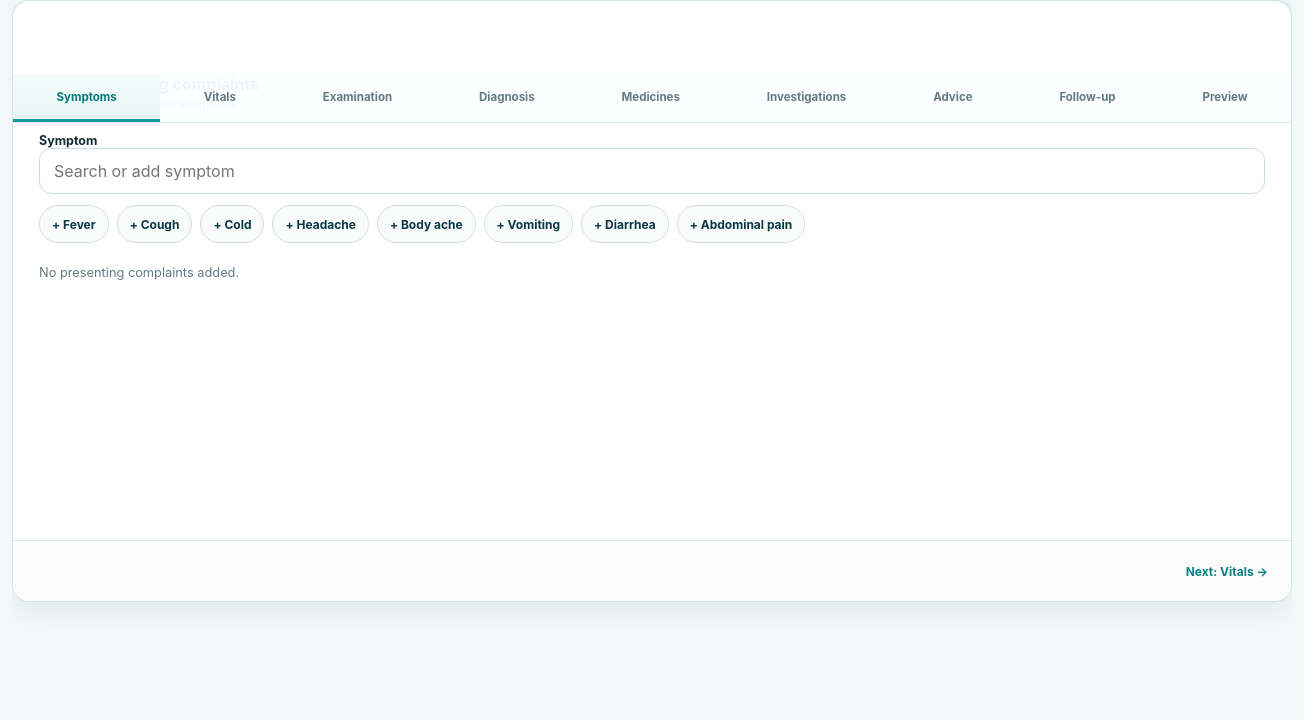
Scenario: tabbed consultation workspace › keeps one draft across tabs and marks completed tabs
The image size is (1304, 720).
Click the button "+ Fever" at [74, 224], box [39,205,109,243]
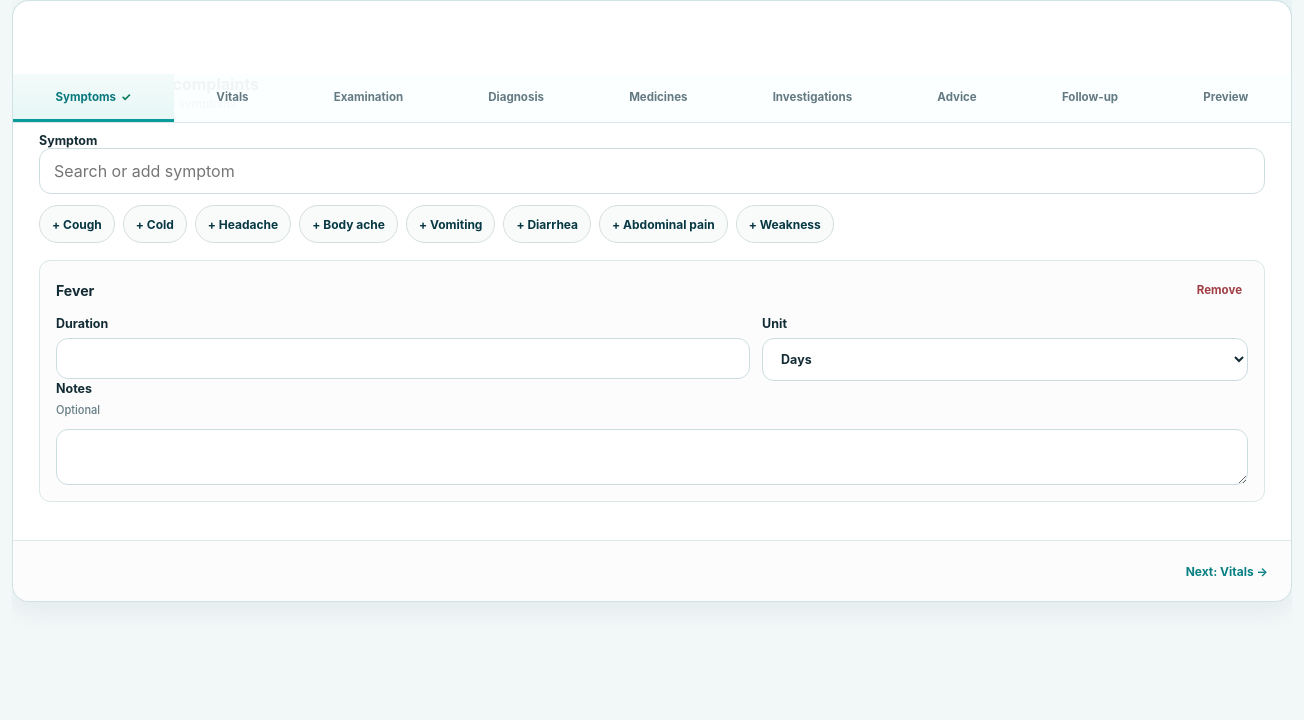
Expected: the text "Fever" is shown, [56,282,94,298]
Result: the text named "complete" is shown at [121,90,131,104]
Click the tab "Vitals" at [232, 98], box [174,74,291,122]
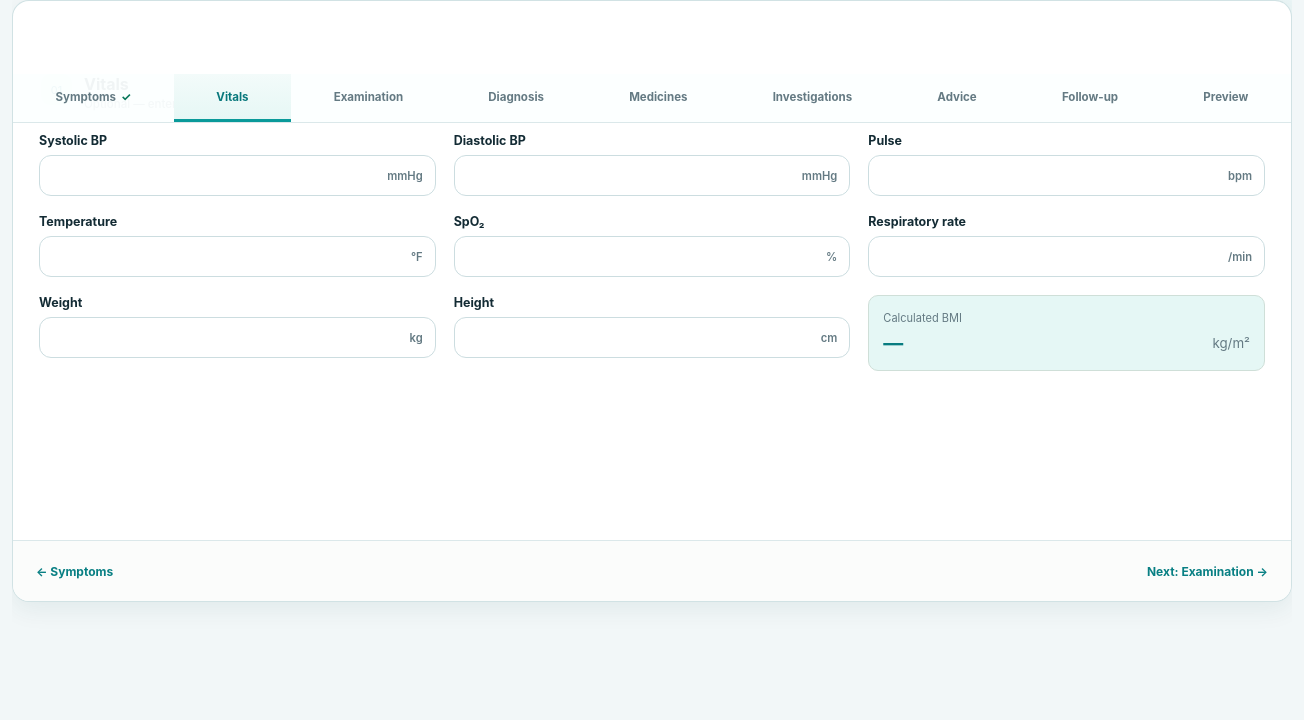
Result: the tab "Vitals" is selected at [174,74,291,122]
Click the tab "Symptoms✓" at [93, 98], box [13,74,174,122]
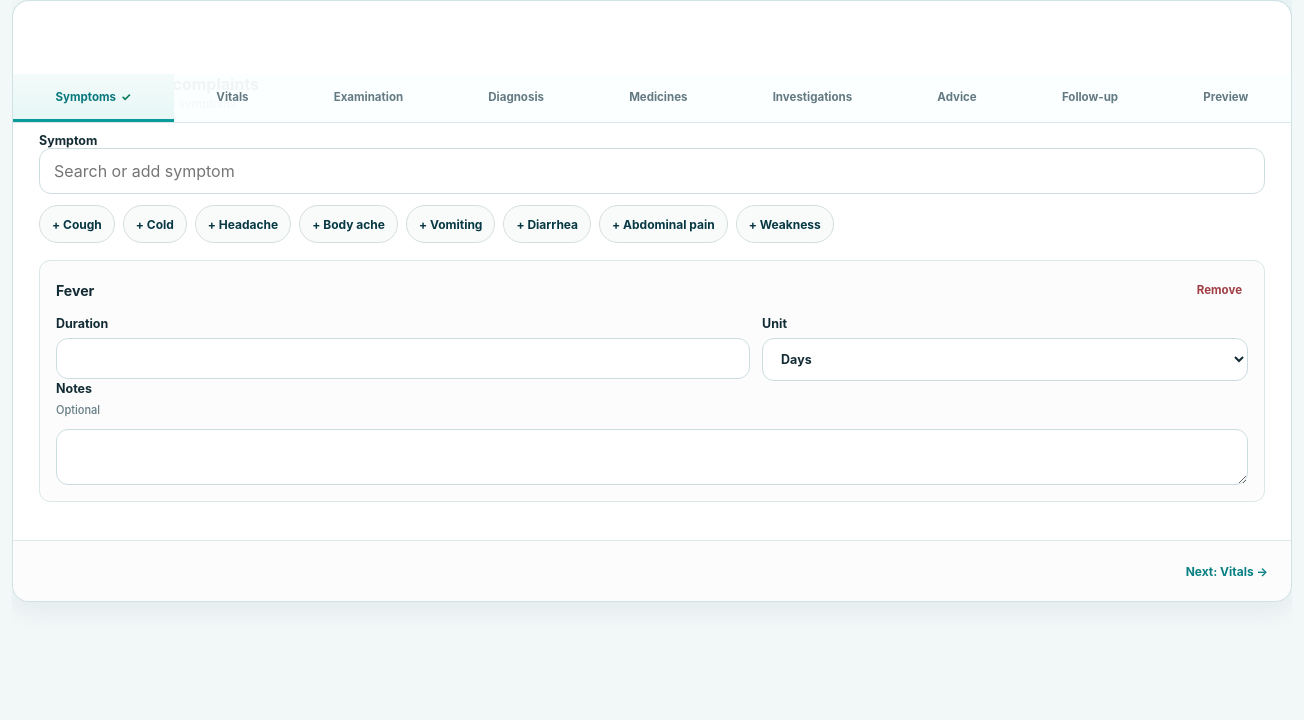
Result: the text "Fever" is shown at [56,282,94,298]
